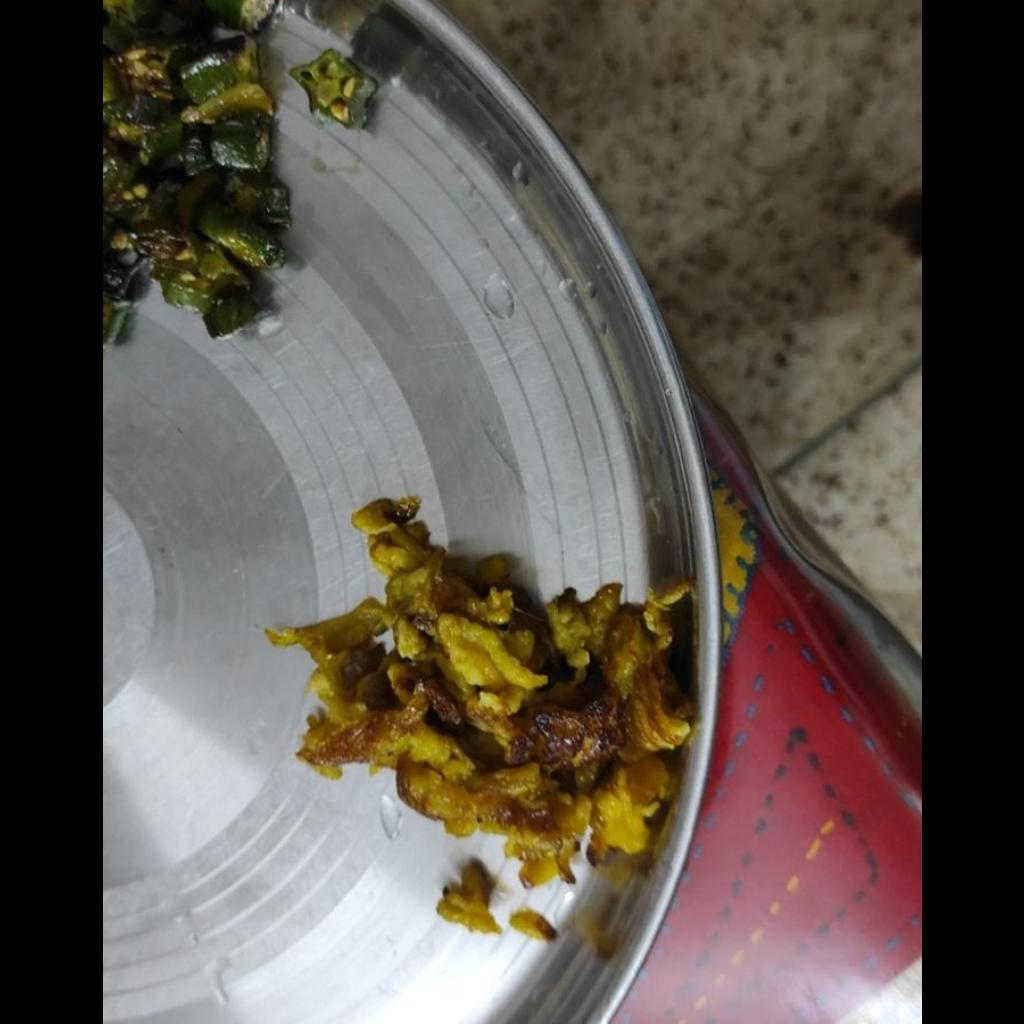korola-vaji: (259, 491, 697, 943)
okra: (106, 5, 384, 359)
